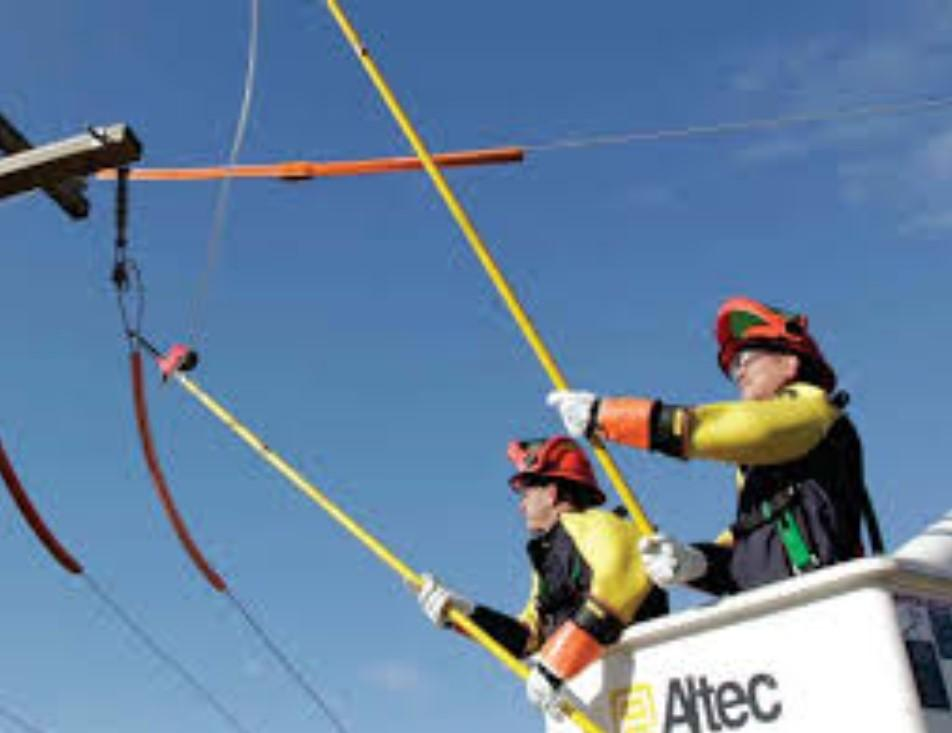Vara_Manobra: (323, 3, 670, 577), (142, 346, 599, 733)
